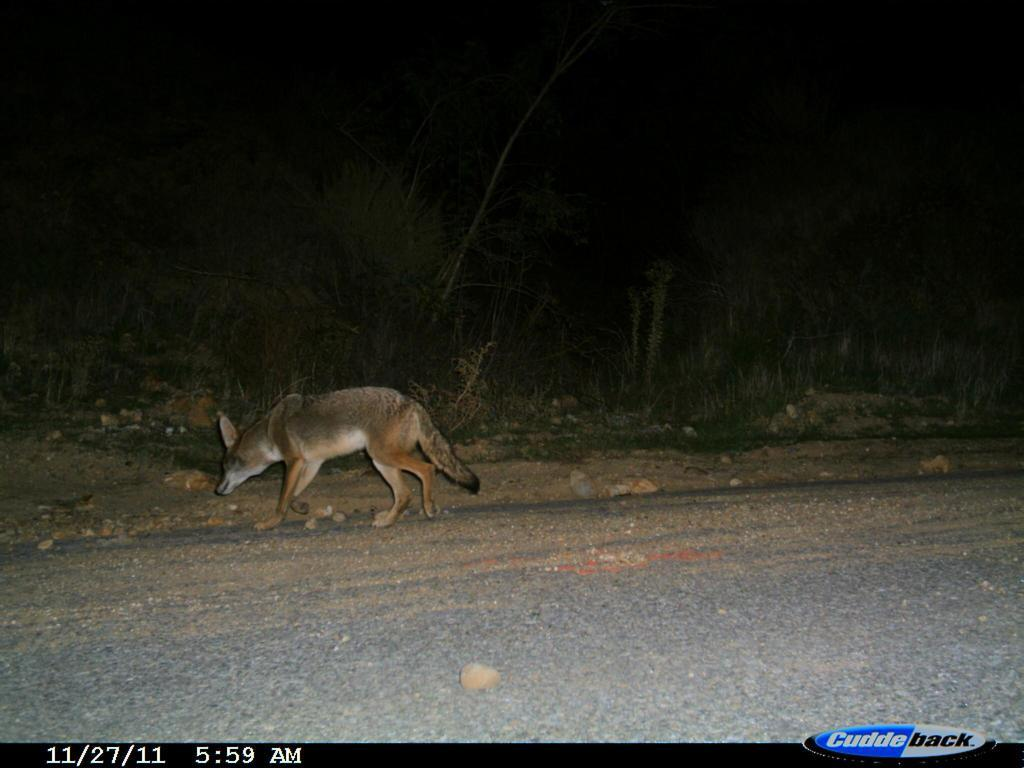coyote: (177, 364, 483, 557)
